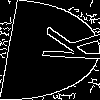K: (24, 25, 100, 63)
